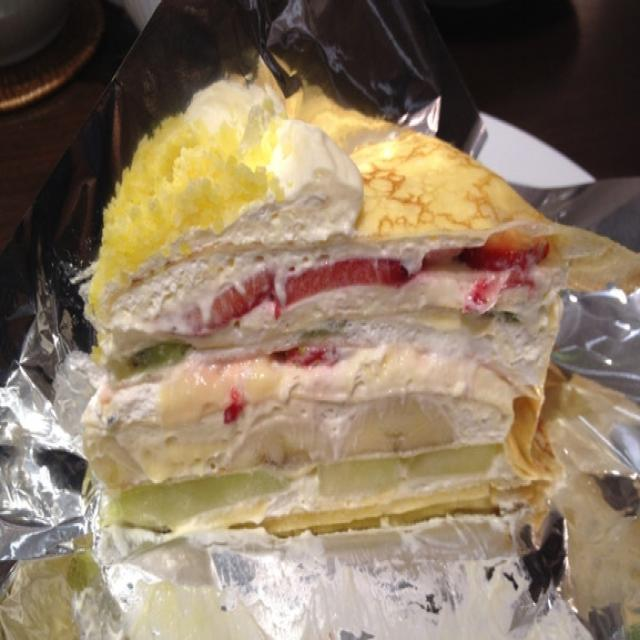蔬菜料理: (73, 75, 640, 640)
